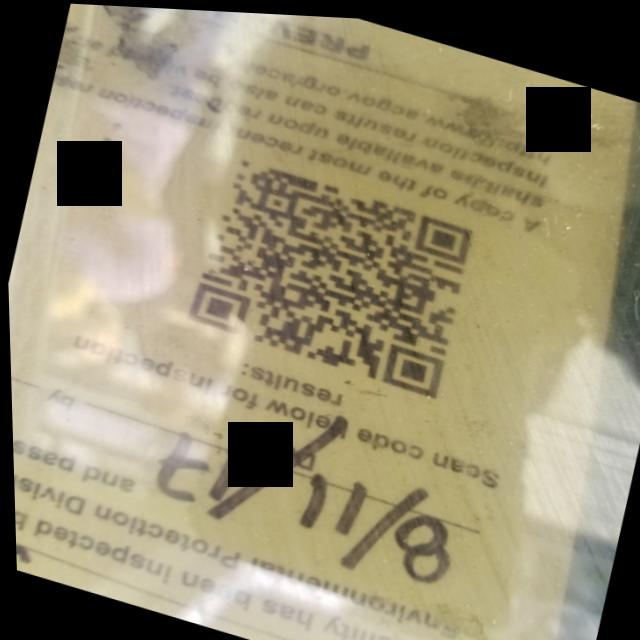QR_CODE: (160, 125, 506, 422)
